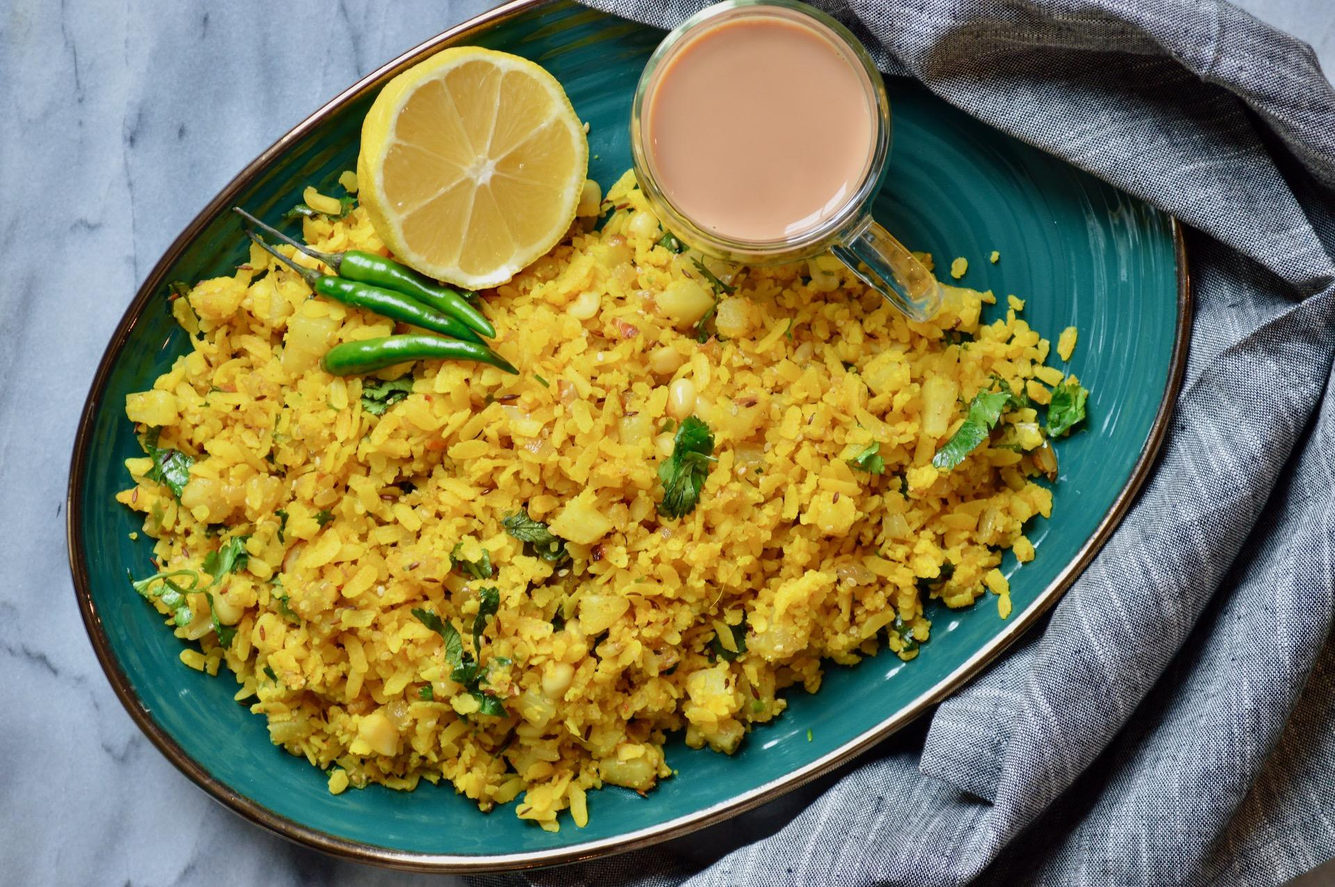poha: (168, 170, 1096, 798)
